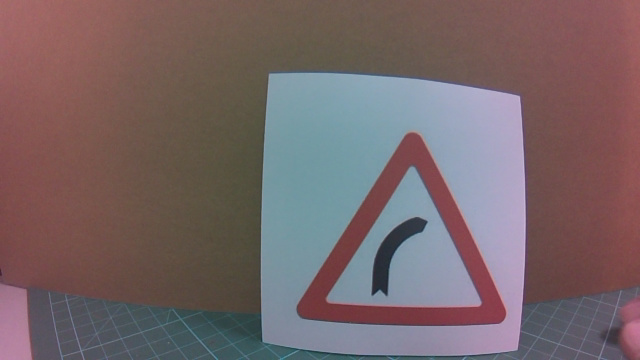right: (335, 160, 469, 336)
